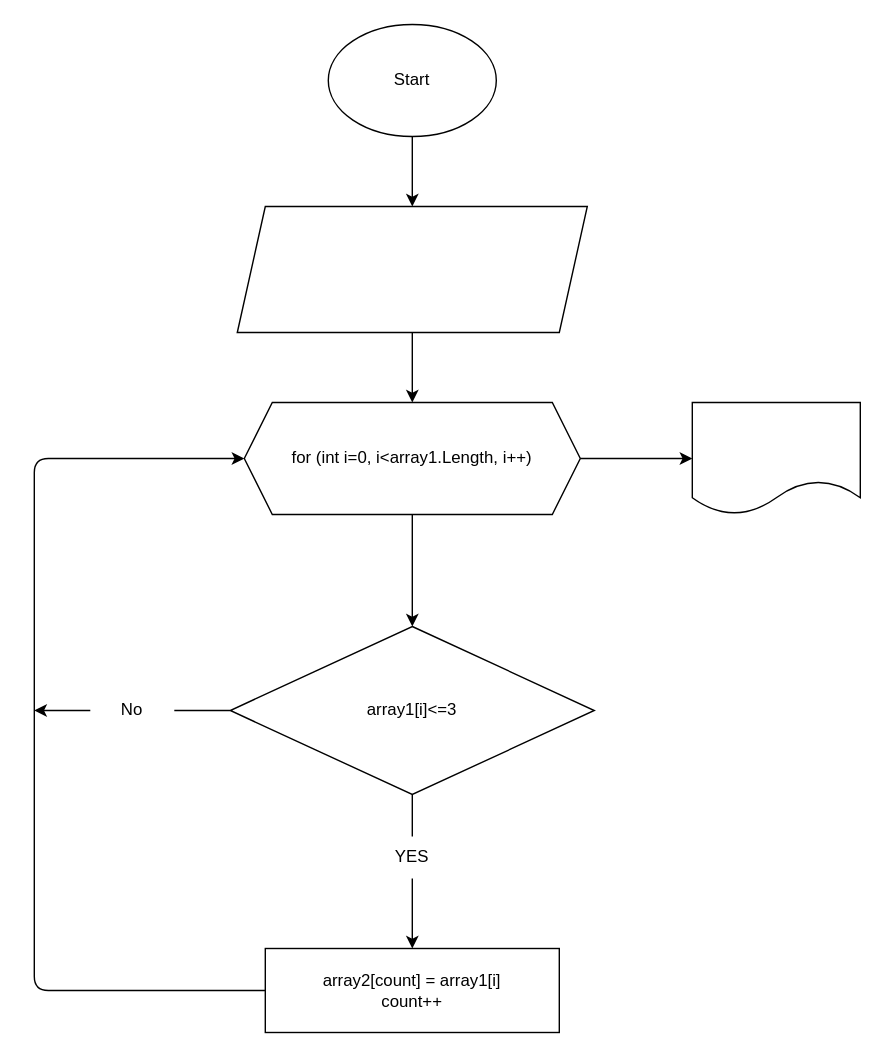
The diagram is 885 pixels wide and 1057 high, and some of its shapes have lost their labels. Each missing label, with the centre of its shape:
"array1[7] array2[7] int count=0" goes at (411,268).
"array1[] -> array2[]" goes at (775,457).
